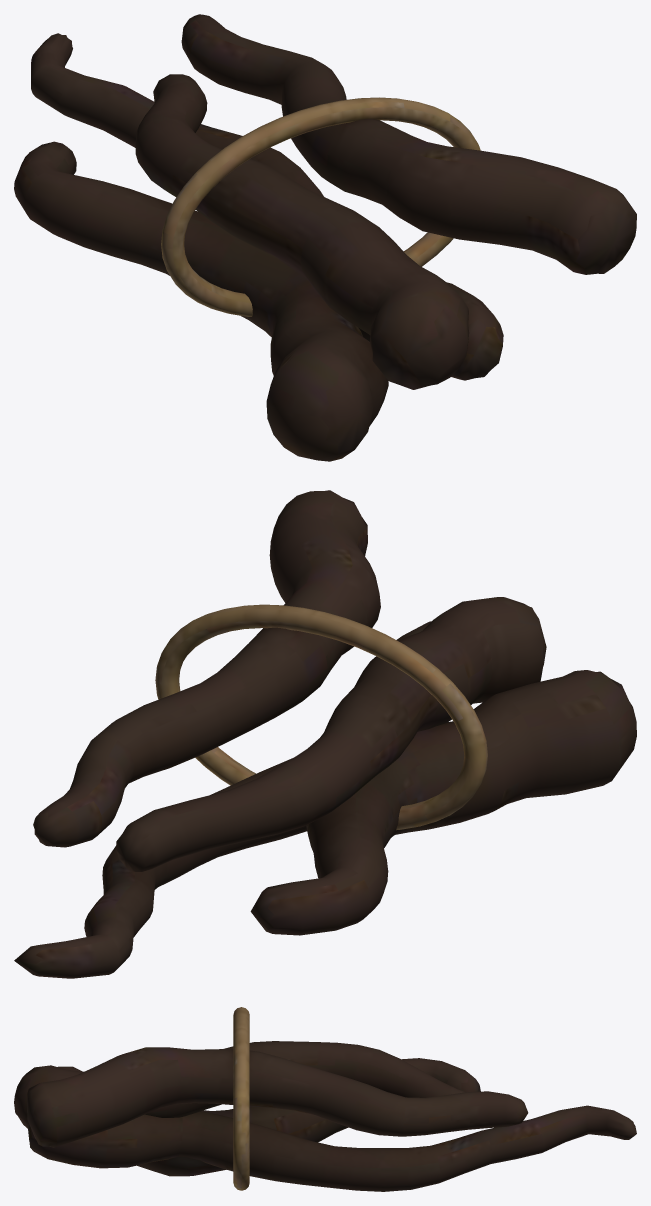
File: comfrey.glb
3 views of the same model, one above another, from view 1: azimuth 30°, elevation 25°; view 2: azimuth 150°, elevation 25°; view 3: azimuth 270°, elevation 25° (orthographic). The views are drawn at different scales.
Visible parts, largest first — view 1: comfrey; view 2: comfrey; view 3: comfrey.
Part boxes in pixels (x1,y1,x2,y2): comfrey: (14,14,636,461); comfrey: (14,490,636,978); comfrey: (14,1007,636,1191).
Size of the model in its own units: 0.0555 by 0.035 by 0.121.
Materials: 1 (1 with a texture image).
